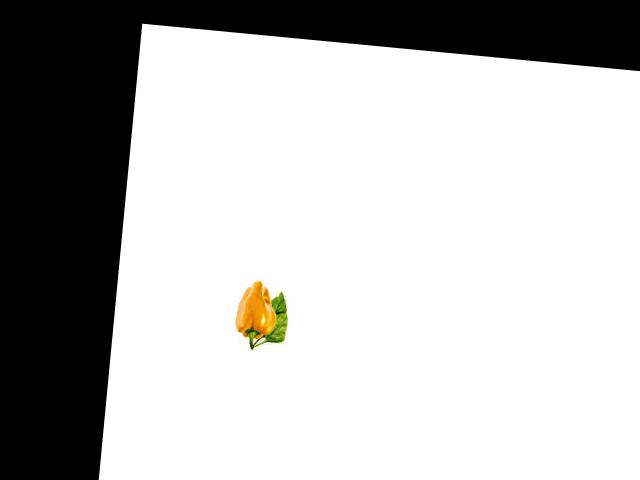bell_pepper: (229, 277, 281, 353)
